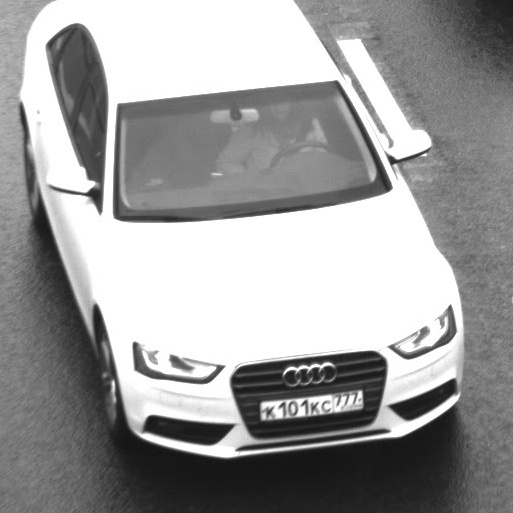plate: (249, 380, 373, 429)
